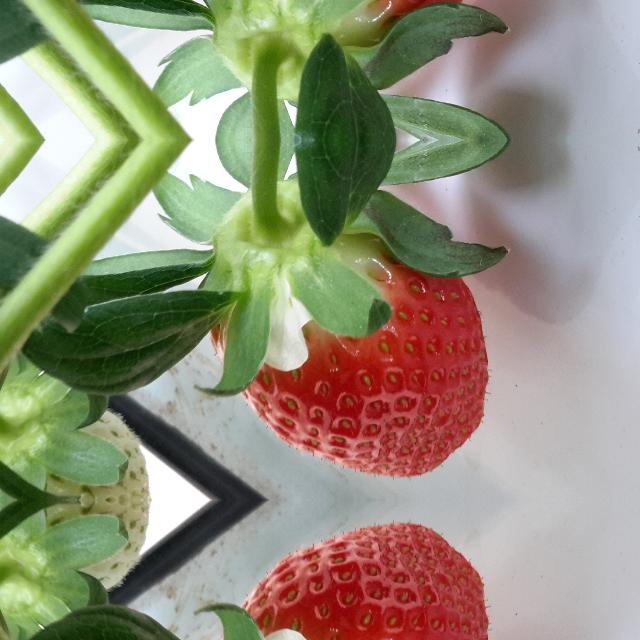Health_100: (243, 231, 492, 481), (243, 519, 492, 640)
